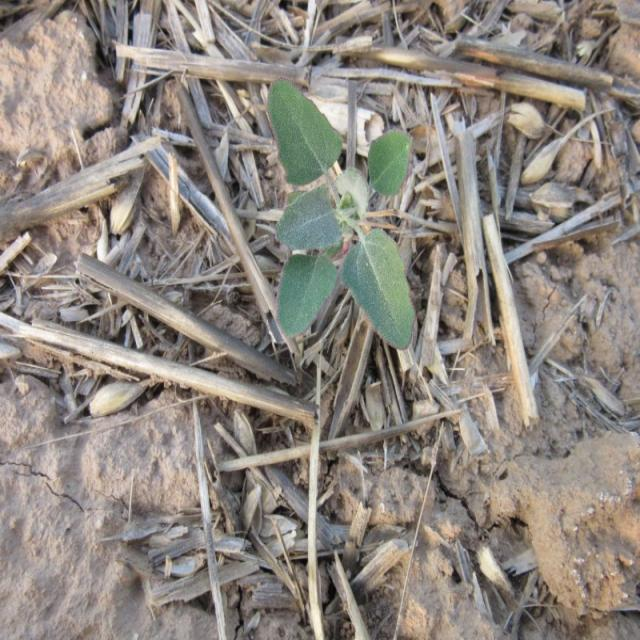ca: (267, 82, 418, 352)
